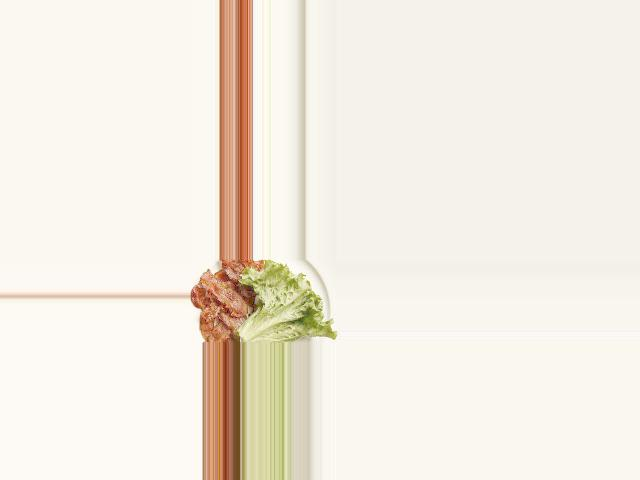lettuce: (239, 262, 332, 343)
